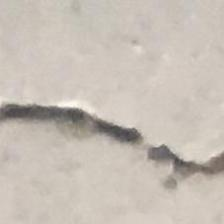Crack: (0, 76, 224, 219)
